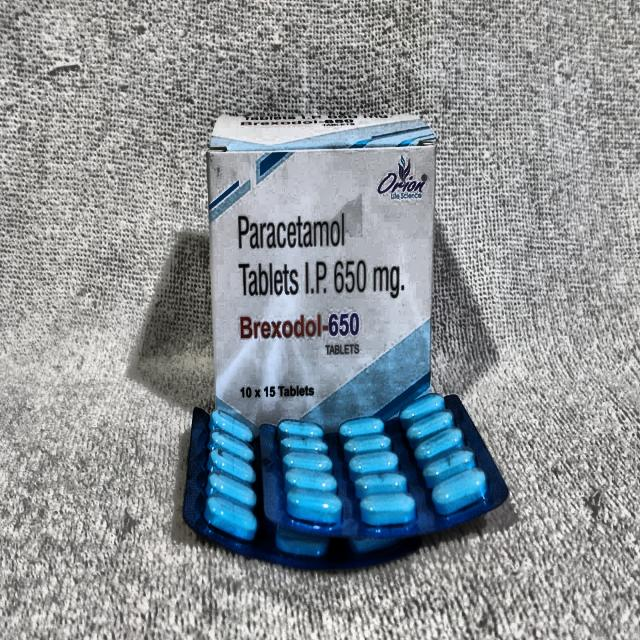Paracetamol: (234, 204, 419, 310)
